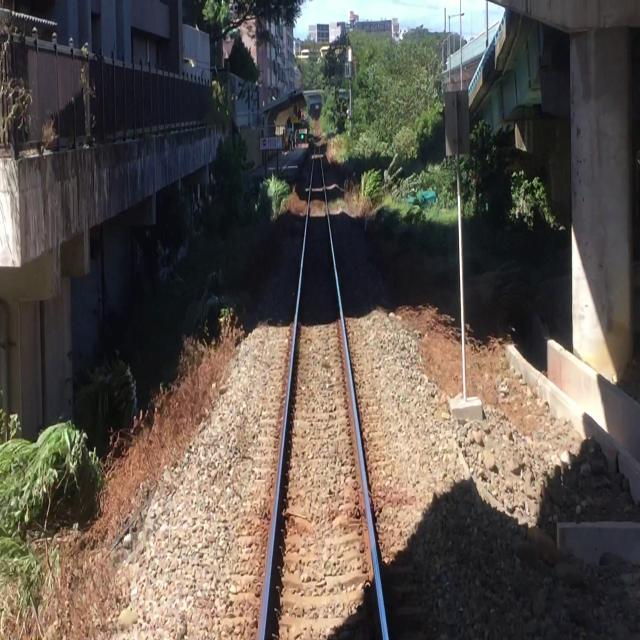rail-track: (278, 145, 376, 640)
